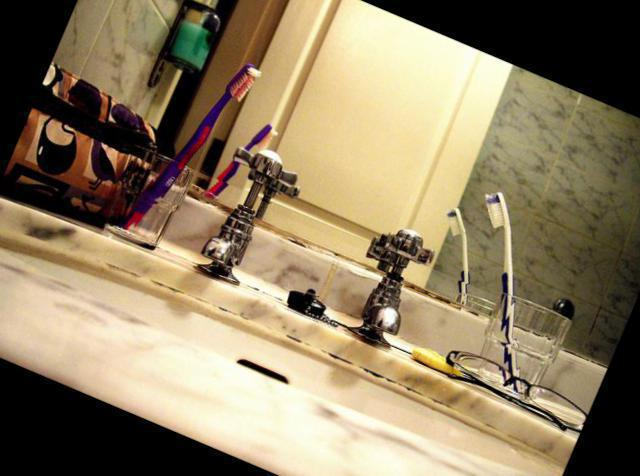Lavamanos: (0, 55, 635, 476)
